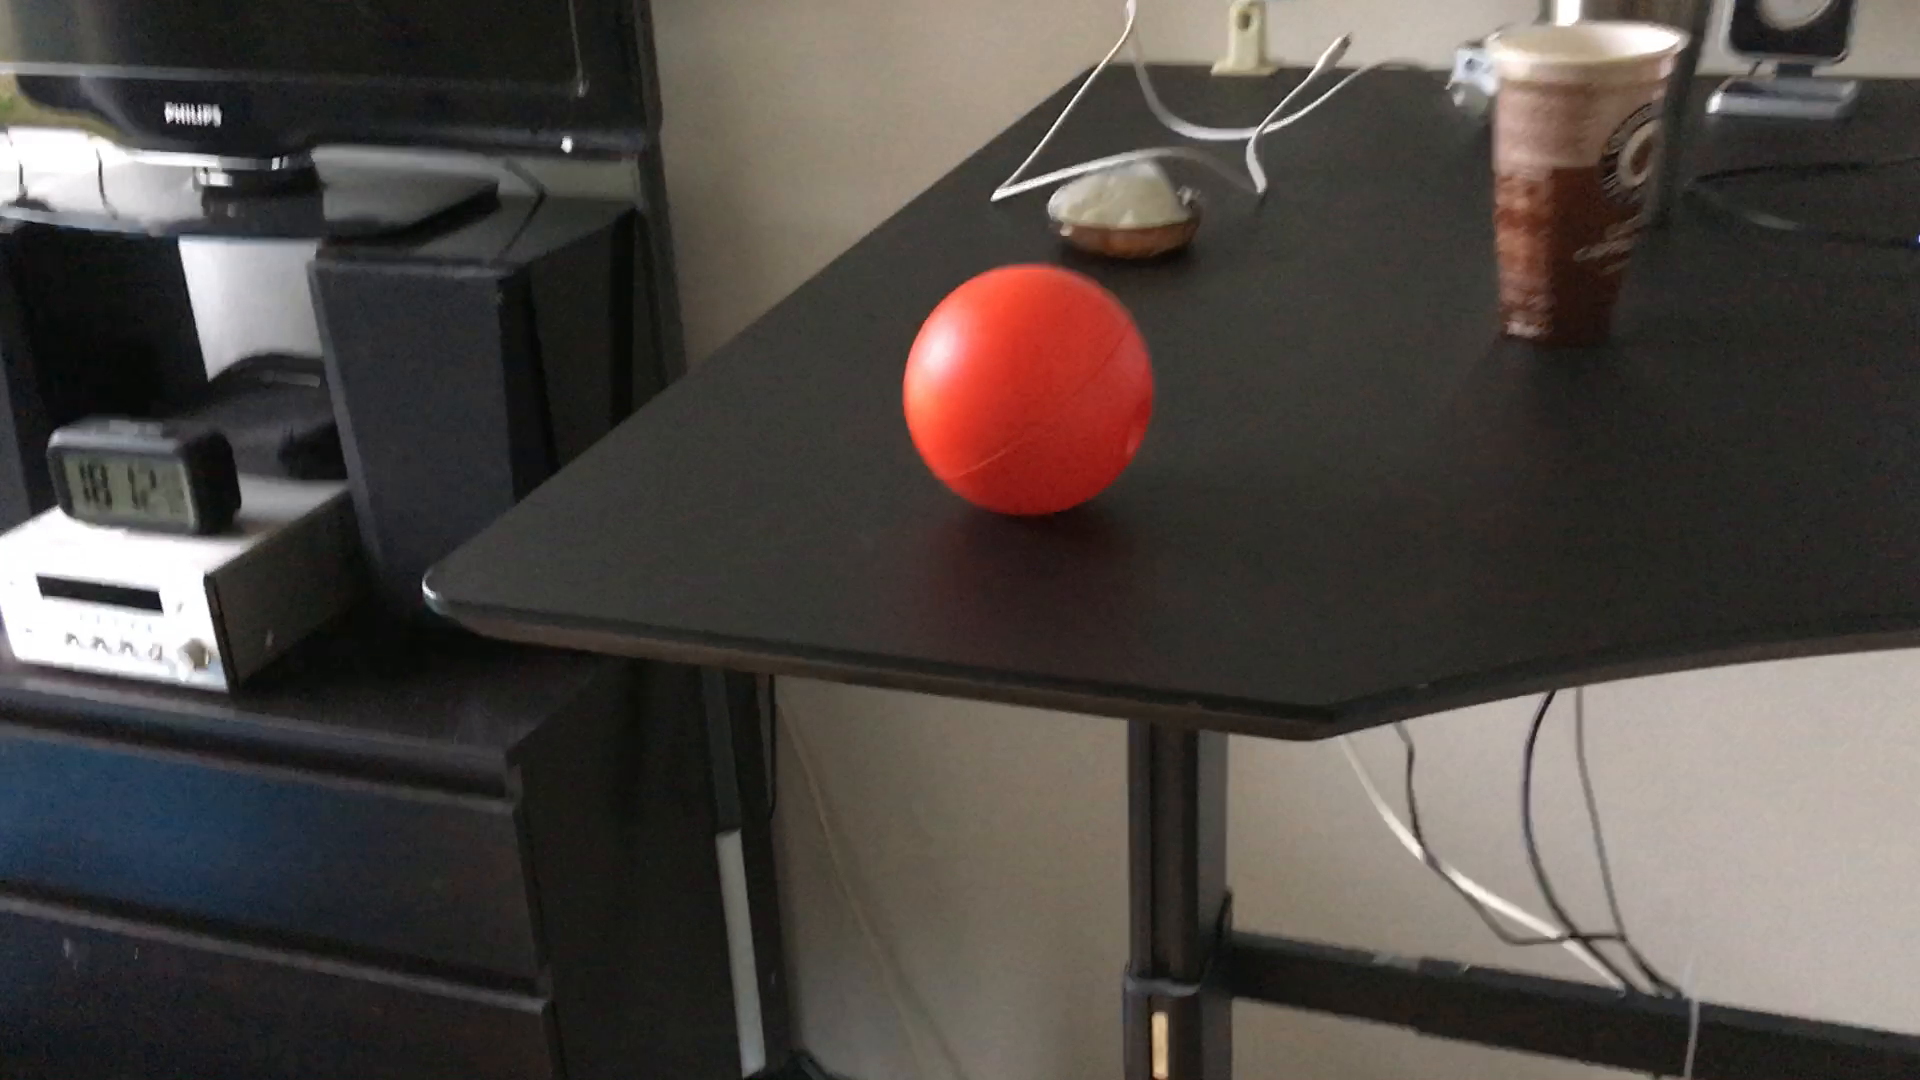Ball: (902, 266, 1156, 512)
